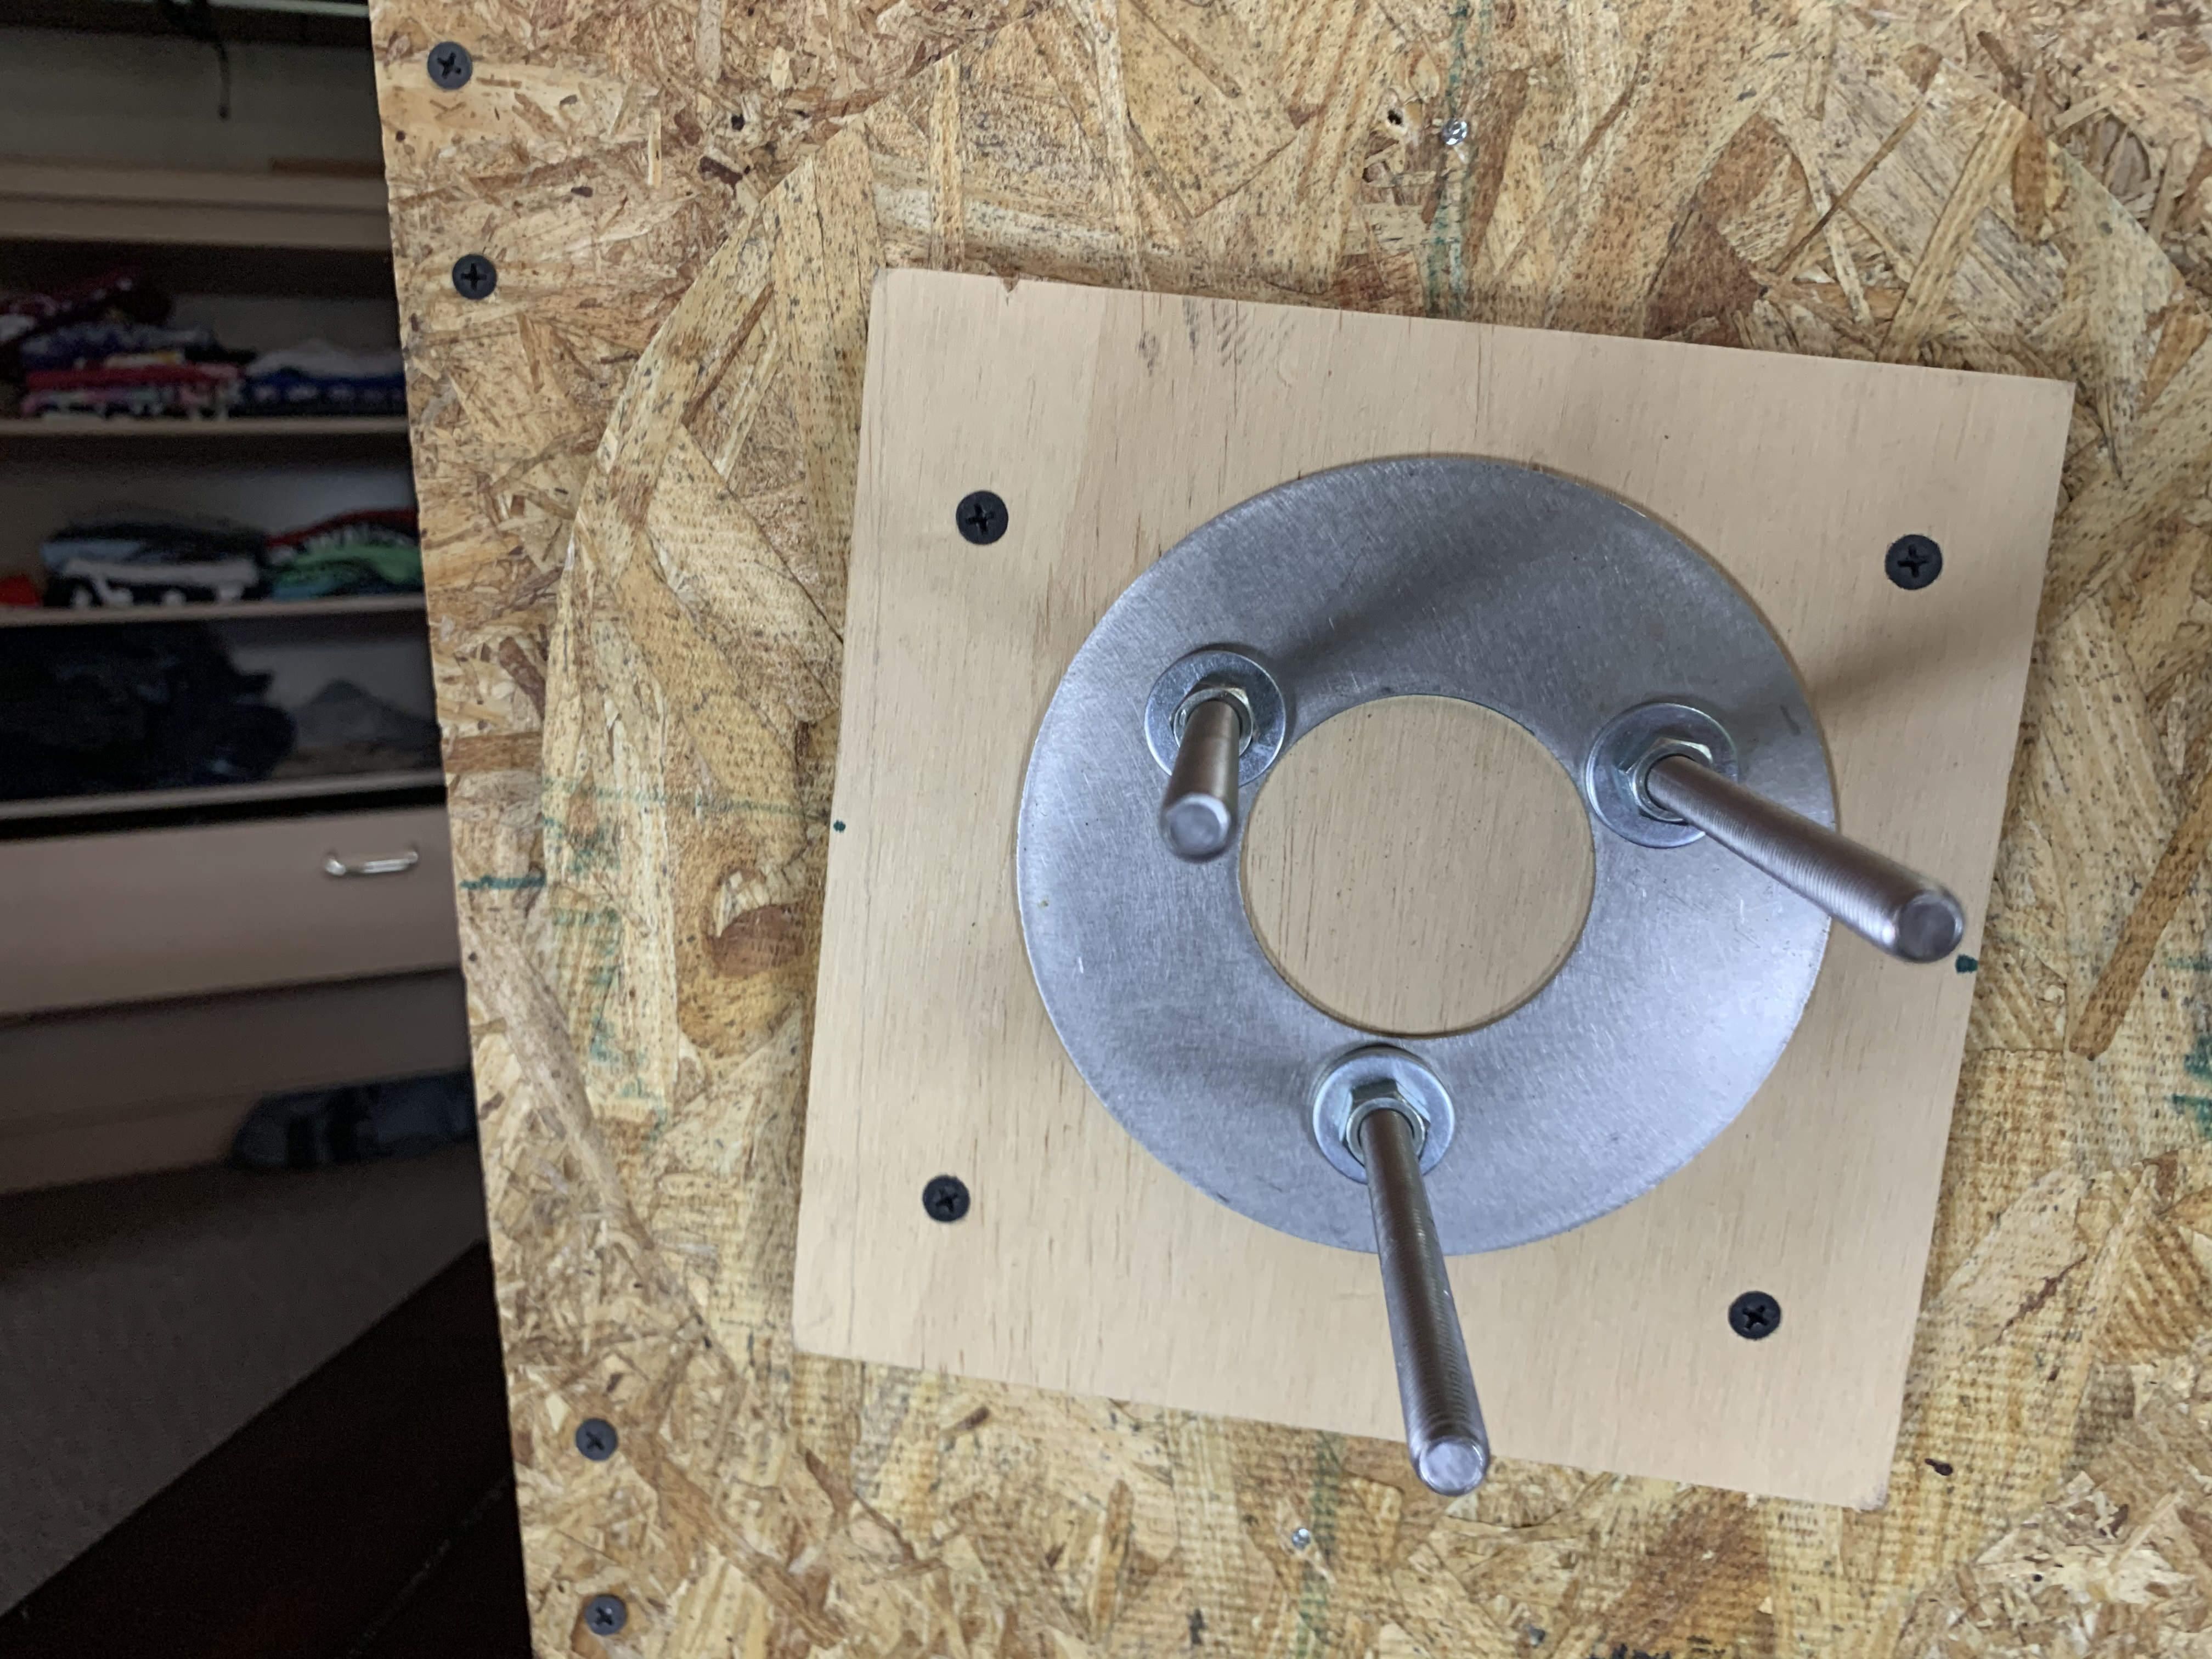bolt: (1581, 697, 1745, 854), (1305, 1044, 1453, 1194), (1141, 645, 1289, 786)
